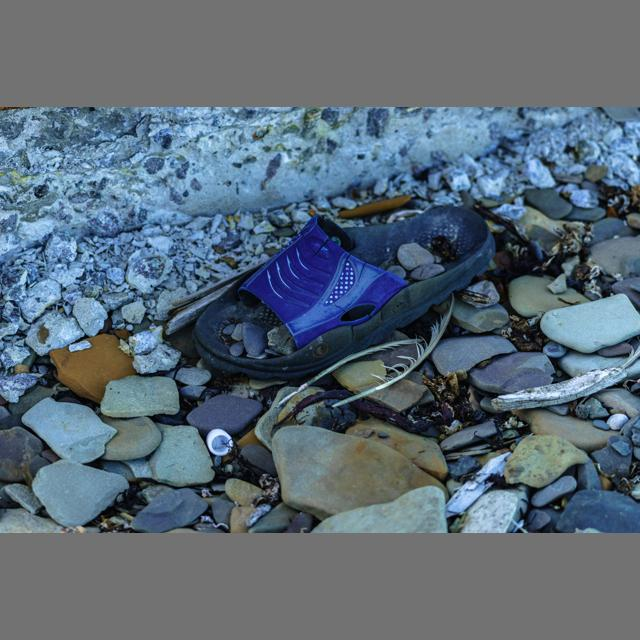litter: (193, 208, 496, 382)
